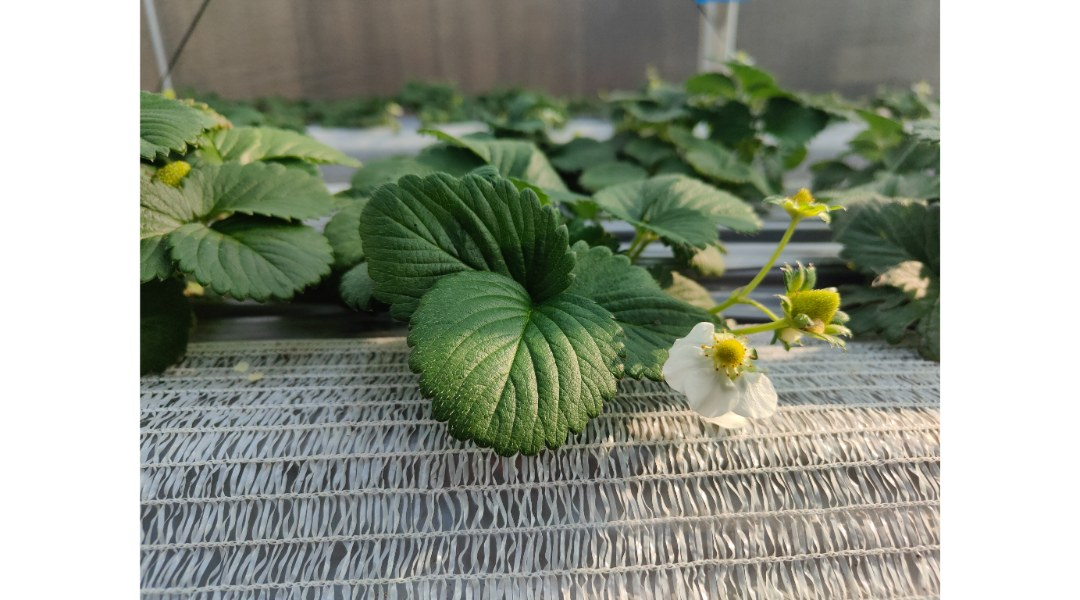berry: (775, 263, 856, 356), (762, 182, 847, 224)
flower: (663, 316, 780, 442)
strain: (749, 220, 798, 291)
